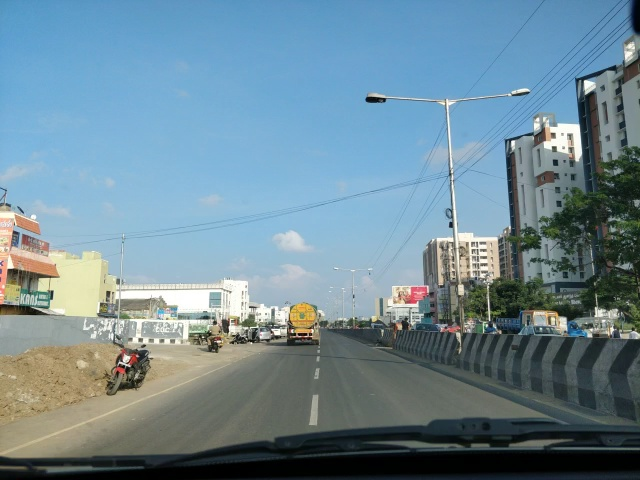truck: (287, 303, 321, 346)
